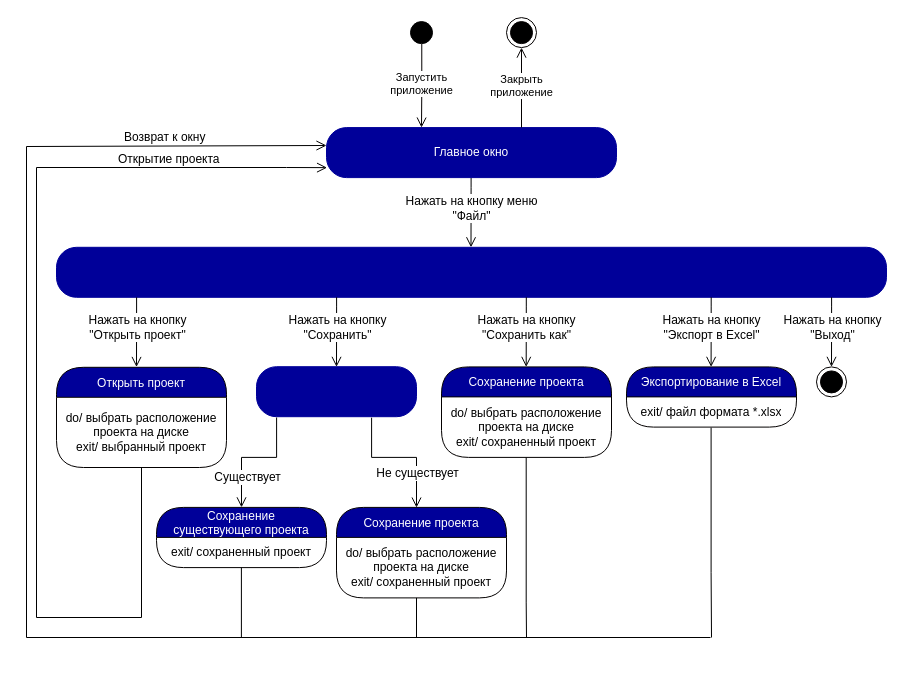
This 904x686 diagram has some shape labels left out. Here are the shapes that lost their labels. From the top down, the centre of each, then its label:
[471,271]: Меню "Файл"
[336,391]: Проверка - существует ли проект
